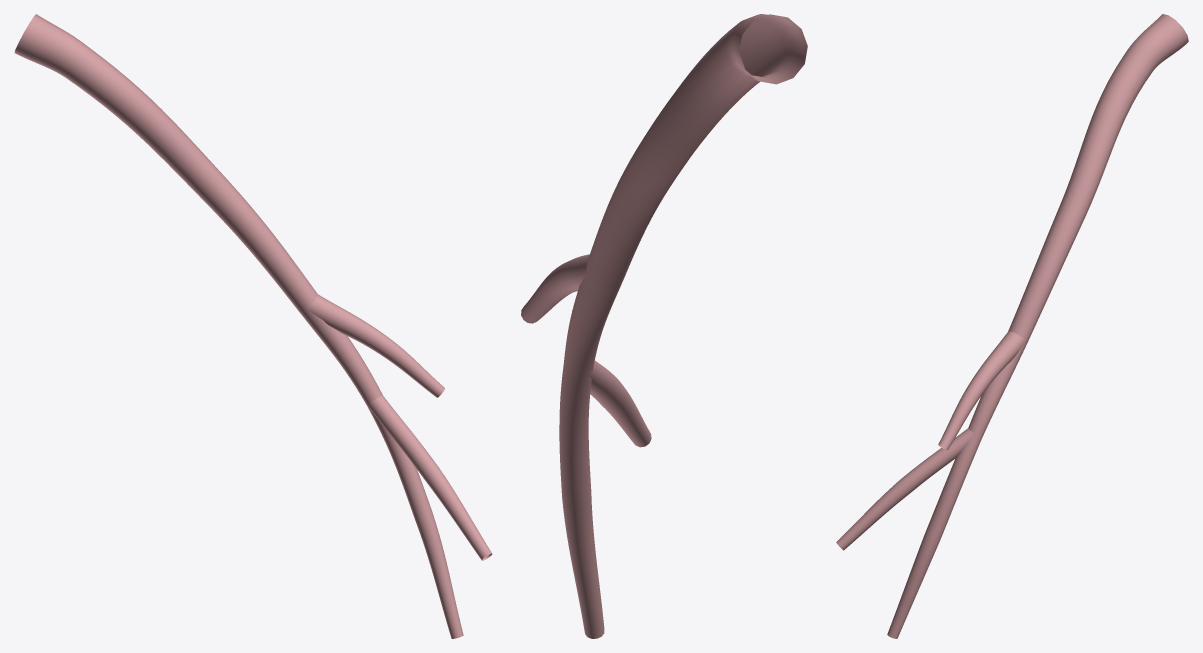
3 views of the same model, side by side, from view 1: azimuth 30°, elevation 25°; view 2: azimuth 150°, elevation 25°; view 3: azimuth 270°, elevation 25° (orthographic). The views are drawn at different scales.
Visible parts, largest first — view 1: ZA_ed6a8f6ec93b4045; view 2: ZA_ed6a8f6ec93b4045; view 3: ZA_ed6a8f6ec93b4045.
Part boxes in pixels (left/top/right/bottom): ZA_ed6a8f6ec93b4045: left=14, top=14, right=492, bottom=638; ZA_ed6a8f6ec93b4045: left=521, top=14, right=807, bottom=638; ZA_ed6a8f6ec93b4045: left=836, top=14, right=1188, bottom=638.
Bounding box in the file's own units: 0.055 × 0.0991 × 0.0624.
